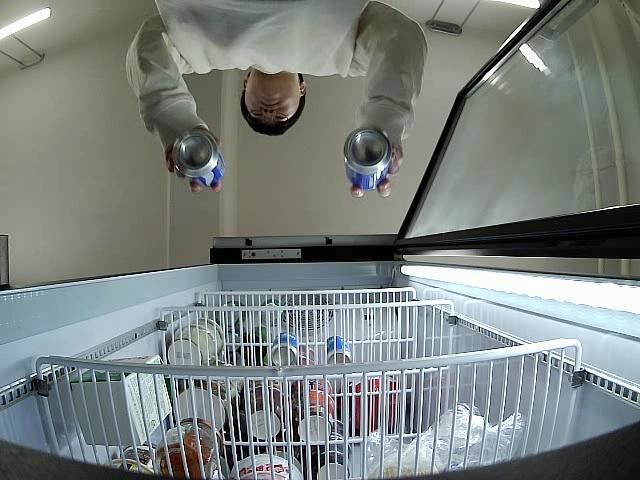00_hand: (163, 130, 222, 197), (347, 148, 403, 201)
13_pocariSweat: (343, 126, 393, 193), (173, 129, 227, 189)
